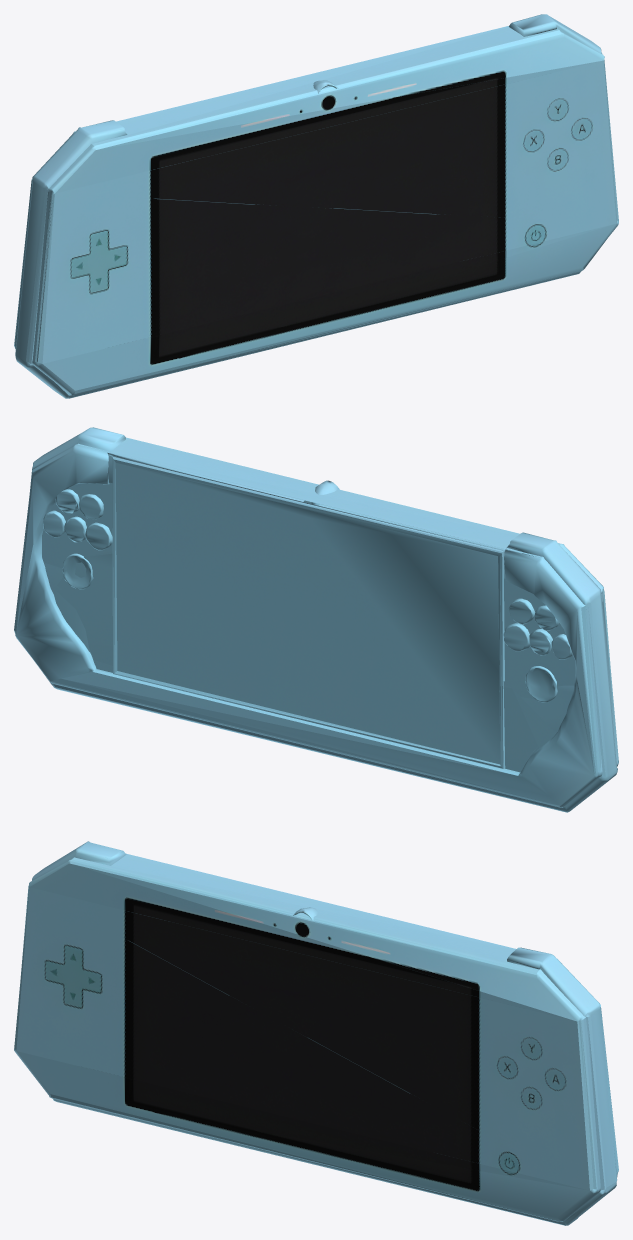
Rendered from newgame.fbx.
The picture shows the model from 3 angles, top to bottom: view 1: azimuth 30°, elevation 25°; view 2: azimuth 150°, elevation 25°; view 3: azimuth 330°, elevation 25°; orthographic projection.
Visible parts, largest first — view 1: mesh_node; view 2: mesh_node; view 3: mesh_node.
Part boxes in pixels (left/top/right/bottom): mesh_node: left=14, top=14, right=618, bottom=398; mesh_node: left=14, top=427, right=618, bottom=812; mesh_node: left=14, top=841, right=618, bottom=1225.
Size of the model in its own units: 100 by 42.09 by 7.37.
1 material, 1 textured.
